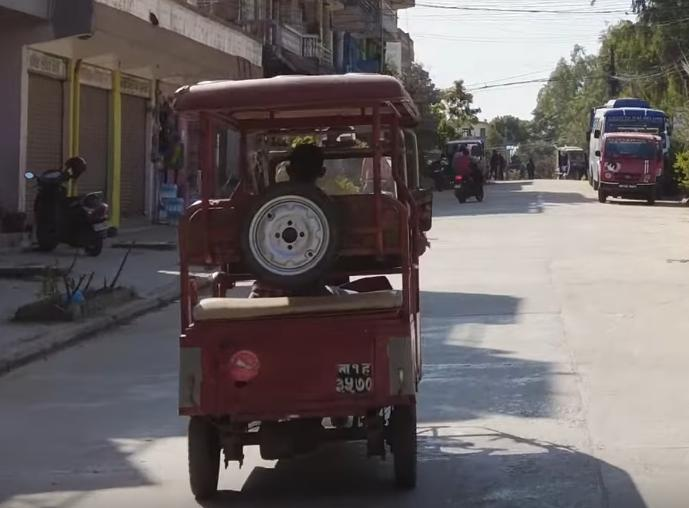bike: (454, 166, 488, 206)
e-rickshaw: (165, 58, 425, 508), (556, 144, 586, 182)
scooter: (24, 159, 113, 259)
